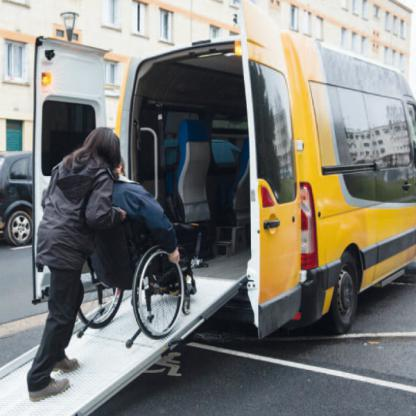wheelchair: (68, 143, 203, 345)
